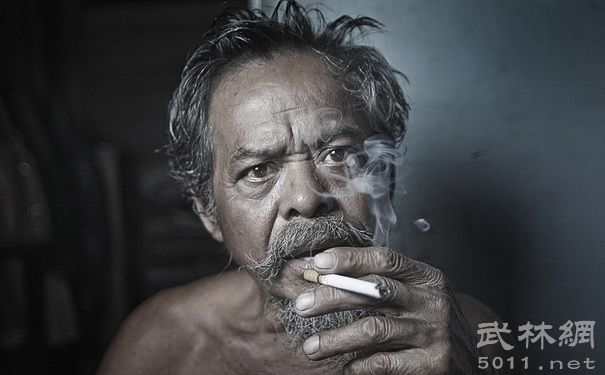yanwu: (348, 132, 404, 263)
